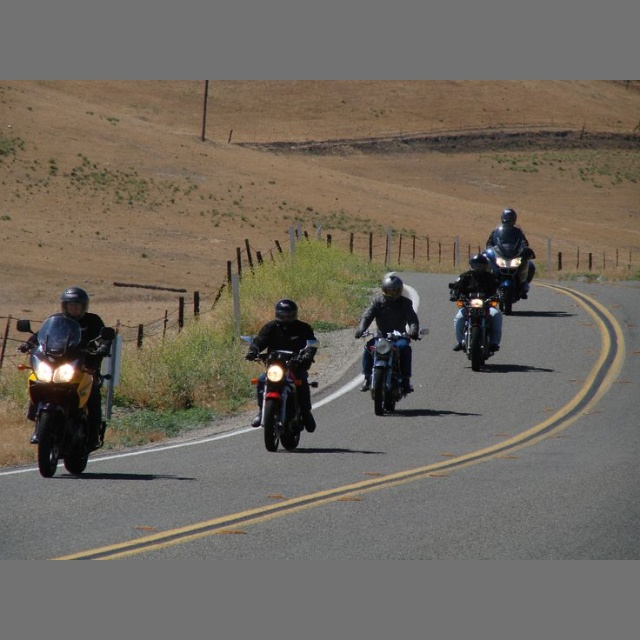Мотоцикл: (23, 286, 113, 476), (247, 298, 320, 450), (355, 274, 419, 417), (455, 254, 504, 366), (488, 211, 536, 315)
